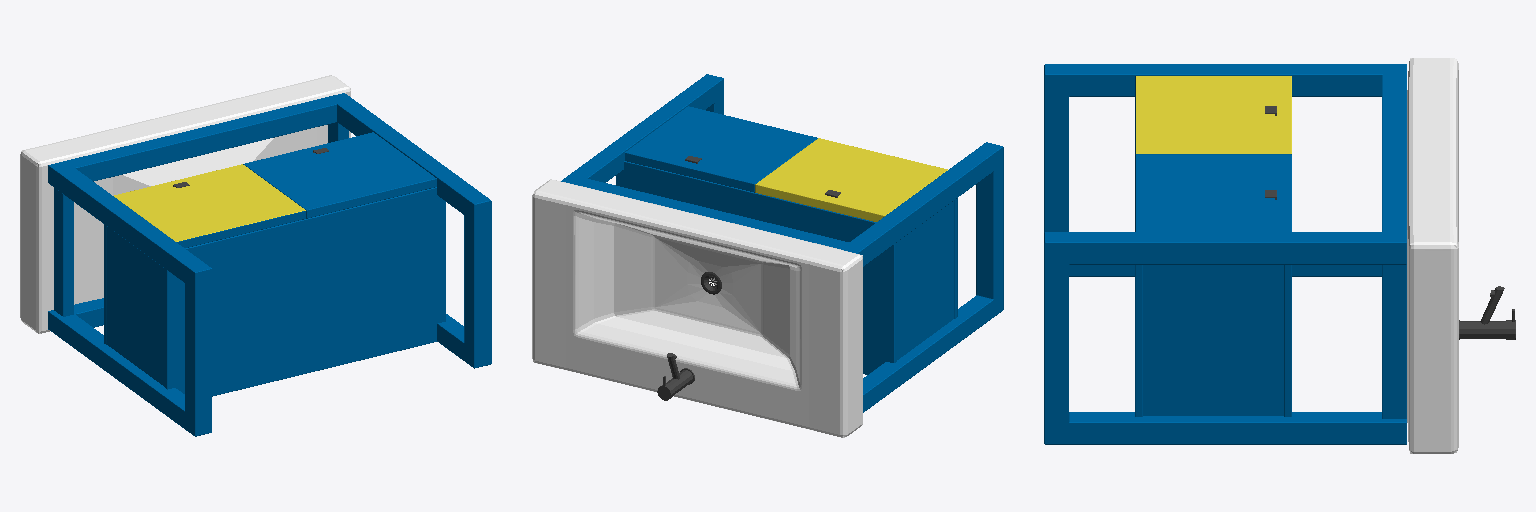
robot.urdf — 87:
<robot name="87">


	<link name="0:virtual">
		<visual>
			<origin xyz="0.0 0.0 0.0" rpy="0 0 0"/>
			<geometry>
				<cylinder length="0" radius="0"/>
			</geometry>
		</visual>
	</link>


	<link name="1:faucet handle 1">
		<visual>
			<origin xyz="0.0030253873595520167 -0.9455100102424622 0.16515578260625746" rpy="0 0 0"/>
			<geometry>
				<mesh filename="../raw_data/87/part_meshes/1.dae" />
			</geometry>
		</visual>
	</link>


	<link name="2:faucet spout 1">
		<visual>
			<origin xyz="-0.009291199372985299 -0.8753380179405212 0.15965299202253996" rpy="0 0 0"/>
			<geometry>
				<mesh filename="../raw_data/87/part_meshes/2.dae" />
			</geometry>
		</visual>
	</link>


	<link name="3:drawer 1">
		<visual>
			<origin xyz="0.18705202674027532 -0.3405275046825409 -0.023874498903751373" rpy="0 0 0"/>
			<geometry>
				<mesh filename="../raw_data/87/part_meshes/3.dae" />
			</geometry>
		</visual>
	</link>


	<link name="4:drawer 2">
		<visual>
			<origin xyz="-0.18652293641935103 -0.34032250195741653 -0.023874498903751373" rpy="0 0 0"/>
			<geometry>
				<mesh filename="../raw_data/87/part_meshes/4.dae" />
			</geometry>
		</visual>
	</link>


	<joint name="4:drawer 2::1:faucet handle 1_rotation" type="revolute">
		<parent link="4:drawer 2"/>
		<child link="1:faucet handle 1"/>
		<origin xyz="-0.18954832377890304 0.6051875082850456 -0.18903028151000884" rpy="0 0 0"/>
		<limit lower="-1.2095131716320704" upper="1.2095131716320704" effort="10" velocity="3"/>
		<axis xyz="0.0 1.0 0.0"/>
	</joint>


	<joint name="4:drawer 2::2:faucet spout 1_rotation" type="revolute">
		<parent link="4:drawer 2"/>
		<child link="2:faucet spout 1"/>
		<origin xyz="-0.17723173704636572 0.5350155159831047 -0.18352749092629134" rpy="0 0 0"/>
		<limit lower="-0.895353906273091" upper="0.4398229715025711" effort="10" velocity="3"/>
		<axis xyz="0.0 1.0 0.0"/>
	</joint>


	<joint name="0:virtual::3:drawer 1_translation" type="prismatic">
		<parent link="0:virtual"/>
		<child link="3:drawer 1"/>
		<origin xyz="-0.18705202674027532 0.3405275046825409 0.023874498903751373" rpy="0 0 0"/>
		<limit lower="-0.0002934866547585" upper="0.352706513345242" effort="10" velocity="3"/>
		<axis xyz="0.0 0.0 1.0"/>
	</joint>


	<joint name="0:virtual::4:drawer 2_translation" type="prismatic">
		<parent link="0:virtual"/>
		<child link="4:drawer 2"/>
		<origin xyz="0.18652293641935103 0.34032250195741653 0.023874498903751373" rpy="0 0 0"/>
		<limit lower="-0.0002934866547585" upper="0.352706513345242" effort="10" velocity="3"/>
		<axis xyz="0.0 0.0 1.0"/>
	</joint>


</robot>

--- What the picture shows (computed from the rendered views, not written in the file) ---
3 views of the same robot in one strip: view 1: azimuth 30°, elevation 25°; view 2: azimuth 150°, elevation 25°; view 3: azimuth 270°, elevation 25° (orthographic).
Model 87 with 5 links and 4 joints (2 revolute, 2 prismatic), rooted at 0:virtual, posed all joints at 0.
Visible links, largest first — view 1: 4:drawer 2, 3:drawer 1; view 2: 4:drawer 2, 3:drawer 1; view 3: 4:drawer 2, 3:drawer 1.
Boxes of the visible links, x1,y1,x2,y2 form: 4:drawer 2: (20,75,491,436); 3:drawer 1: (114,164,305,241); 4:drawer 2: (532,74,1003,437); 3:drawer 1: (755,138,947,221); 4:drawer 2: (1044,58,1505,453); 3:drawer 1: (1136,76,1291,153).
Size in the robot's own frame: 0.9001 by 0.948 by 0.4706 metres.
Meshes: 4 distinct files referenced, 4 mesh visuals loaded (4 Collada DAE).